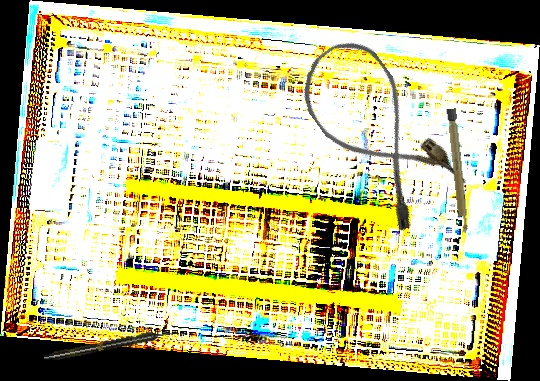Cannula: (285, 28, 470, 235)
Handpiece: (43, 327, 174, 364)
Scalpel Handle: (445, 108, 470, 234)
